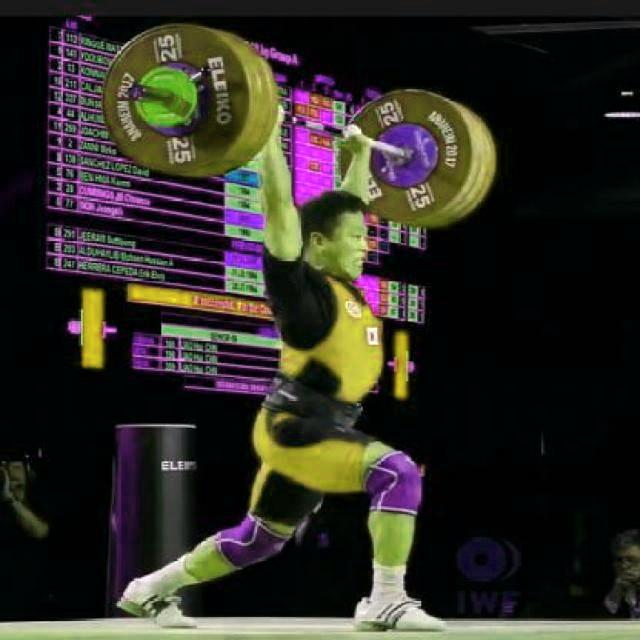barbell: (95, 22, 256, 182)
